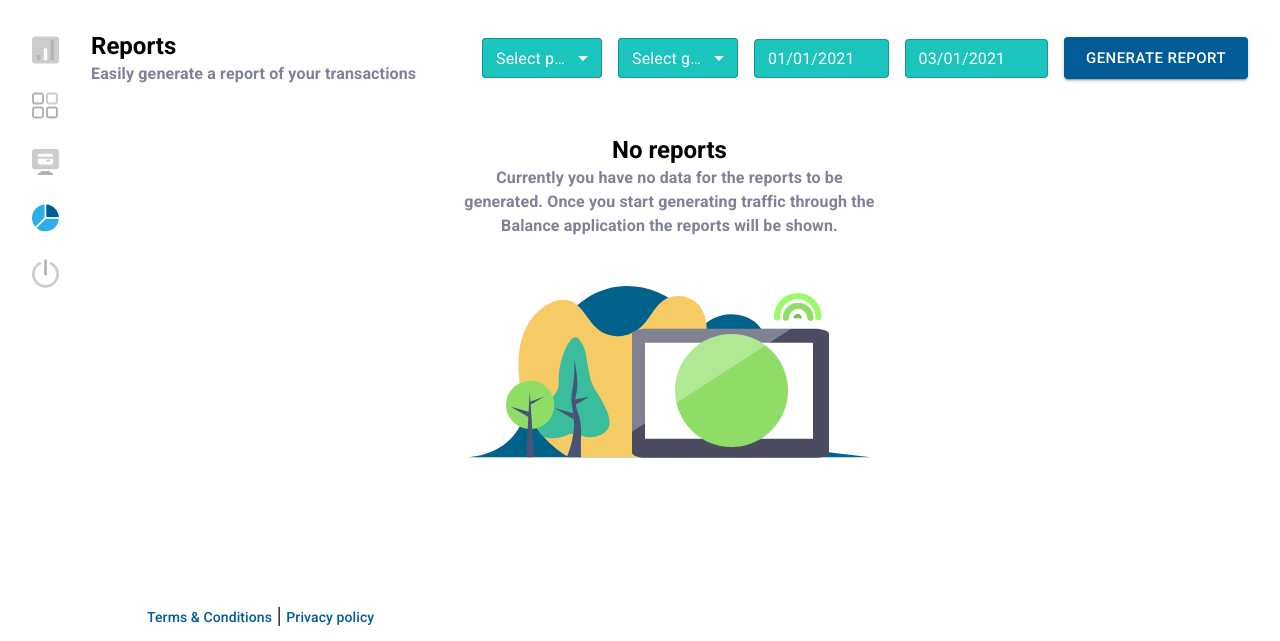
Test case: Home › click on button generates report and shows all projects and total
Click the button "Generate report".
click(1156, 58)  # box [1064,37,1248,79]
(page scrolled)
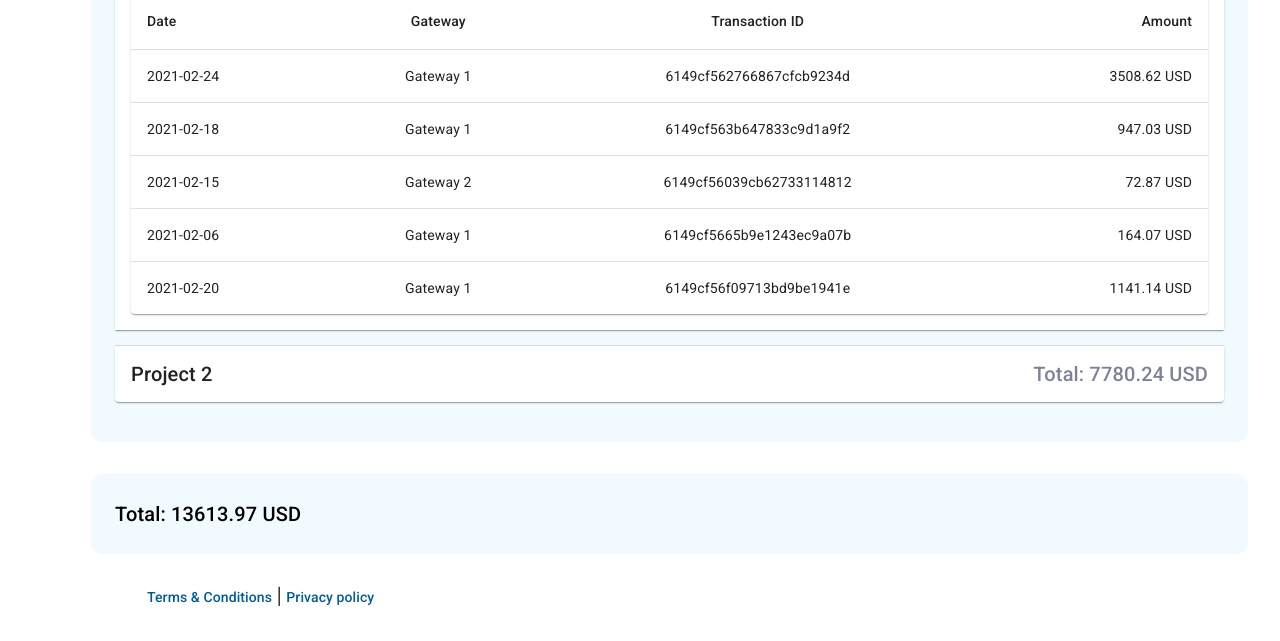
Check: the text "6149cf562766867cfcb9234d" is shown, box [537,50,978,102]
Check: the text "3508.62 USD" is shown, box [978,50,1208,102]
Check: the heading "Project 2" is shown, box [131,362,212,386]
